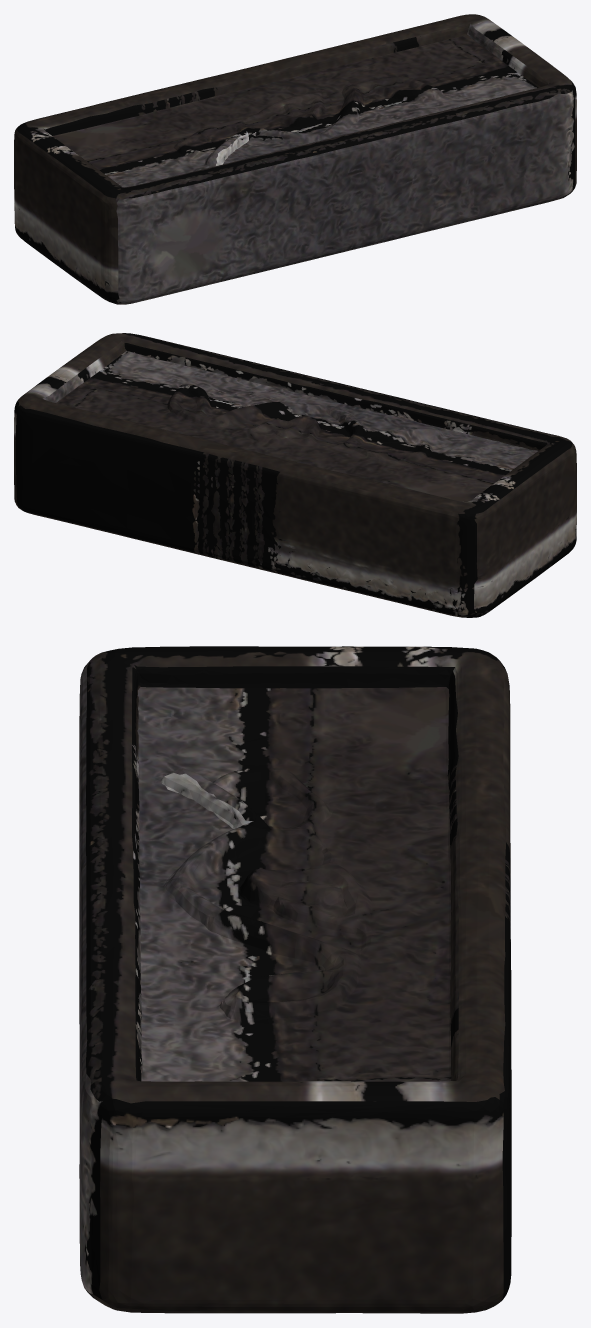
The model's file is expo_eraser.obj.
The picture shows the model from 3 angles, top to bottom: view 1: azimuth 30°, elevation 25°; view 2: azimuth 150°, elevation 25°; view 3: azimuth 270°, elevation 25°; orthographic projection. The views are drawn at different scales.
Parts seen in each view (by area): view 1: geometry_0; view 2: geometry_0; view 3: geometry_0.
Part boxes in pixels (x1,y1,x2,y2): geometry_0: [14, 14, 576, 304]; geometry_0: [14, 333, 576, 617]; geometry_0: [79, 646, 511, 1313].
Bounding box in the file's own units: 0.125 × 0.0283 × 0.0496.
